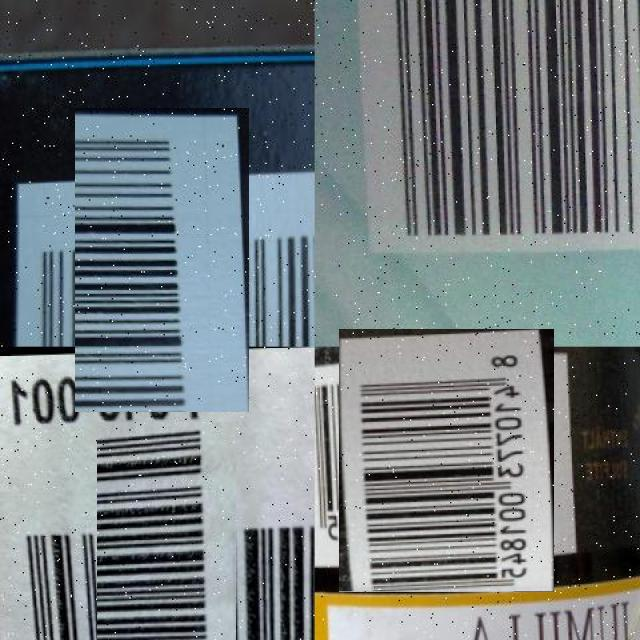Barcode: (359, 0, 640, 252), (327, 341, 566, 580), (43, 140, 282, 379), (58, 461, 276, 640)
